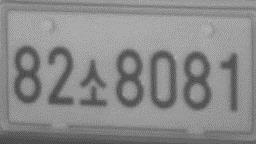0: (149, 50, 176, 110)
1: (218, 51, 238, 113)
2: (47, 45, 74, 107)
8: (182, 50, 211, 111), (13, 44, 42, 103), (115, 49, 144, 108)
소: (78, 58, 108, 106)
